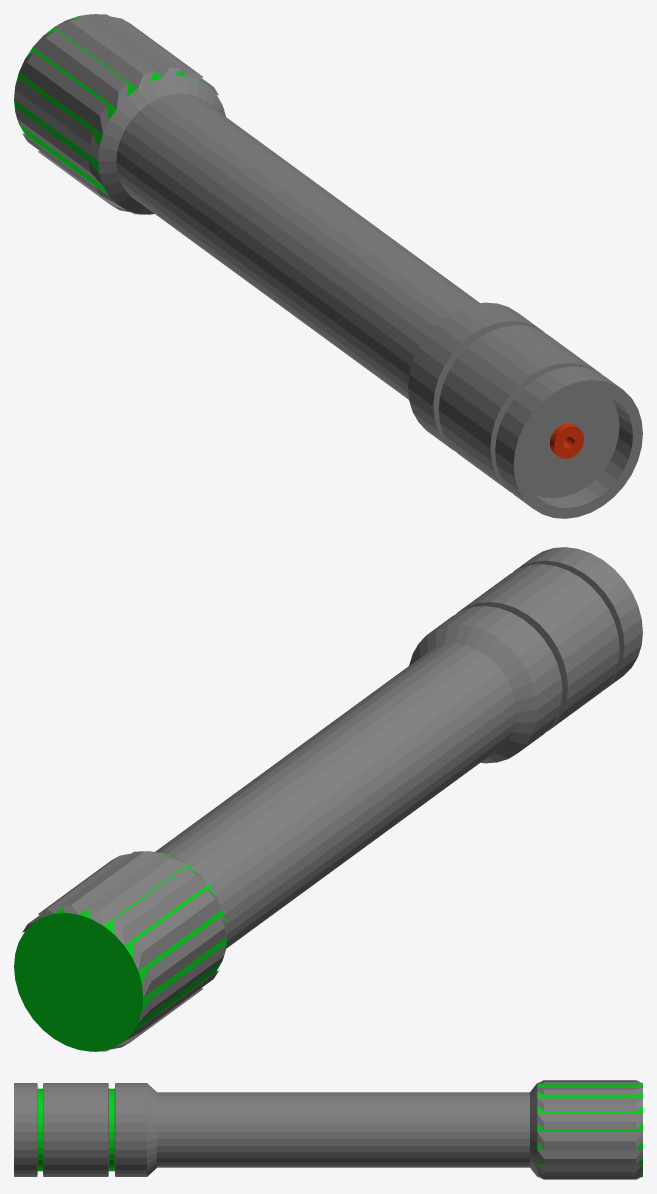
The model's file is Laser.fbx.
3 views of the same model, one above another, from view 1: azimuth 30°, elevation 25°; view 2: azimuth 150°, elevation 25°; view 3: azimuth 270°, elevation 25° (orthographic). The views are drawn at different scales.
Parts seen in each view (by area): view 1: Cylinder; view 2: Cylinder; view 3: Cylinder.
Part boxes in pixels (x1=…): Cylinder: x1=14, y1=14, x2=642, y2=518; Cylinder: x1=14, y1=547, x2=642, y2=1051; Cylinder: x1=14, y1=1080, x2=642, y2=1179.
Size of the model in its own units: 31.62 by 31.62 by 200.
